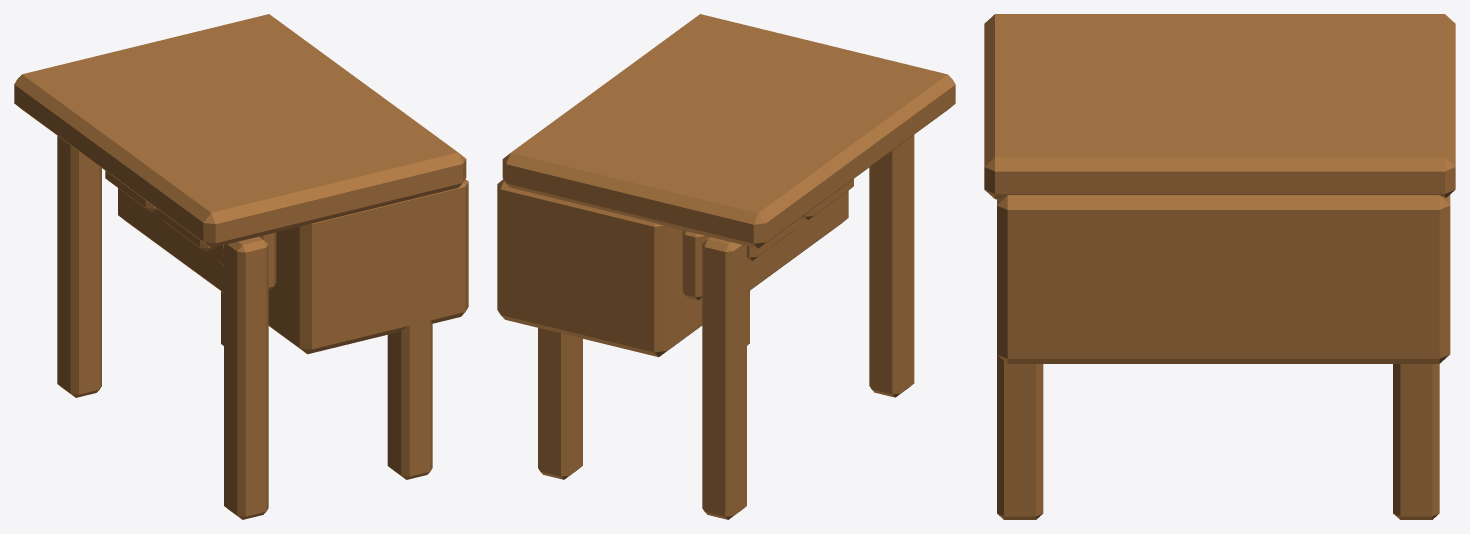
The model's file is SM_Menu_VanityTable.fbx.
3 views of the same model, side by side, from view 1: azimuth 30°, elevation 25°; view 2: azimuth 150°, elevation 25°; view 3: azimuth 270°, elevation 25° (orthographic). The views are drawn at different scales.
Visible parts, largest first — view 1: SM_Menu_VanityTable; view 2: SM_Menu_VanityTable; view 3: SM_Menu_VanityTable.
Part boxes in pixels (left/top/right/bottom): SM_Menu_VanityTable: left=14, top=14, right=468, bottom=519; SM_Menu_VanityTable: left=497, top=14, right=955, bottom=519; SM_Menu_VanityTable: left=984, top=14, right=1455, bottom=519.
Size of the model in its own units: 104 by 132 by 117.
